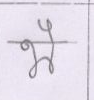ai_matra: (37, 19, 58, 41)
